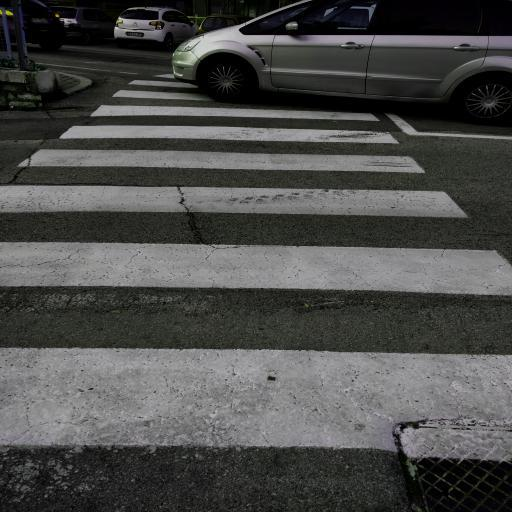crosswalk: (1, 233, 511, 464), (12, 120, 435, 180)
